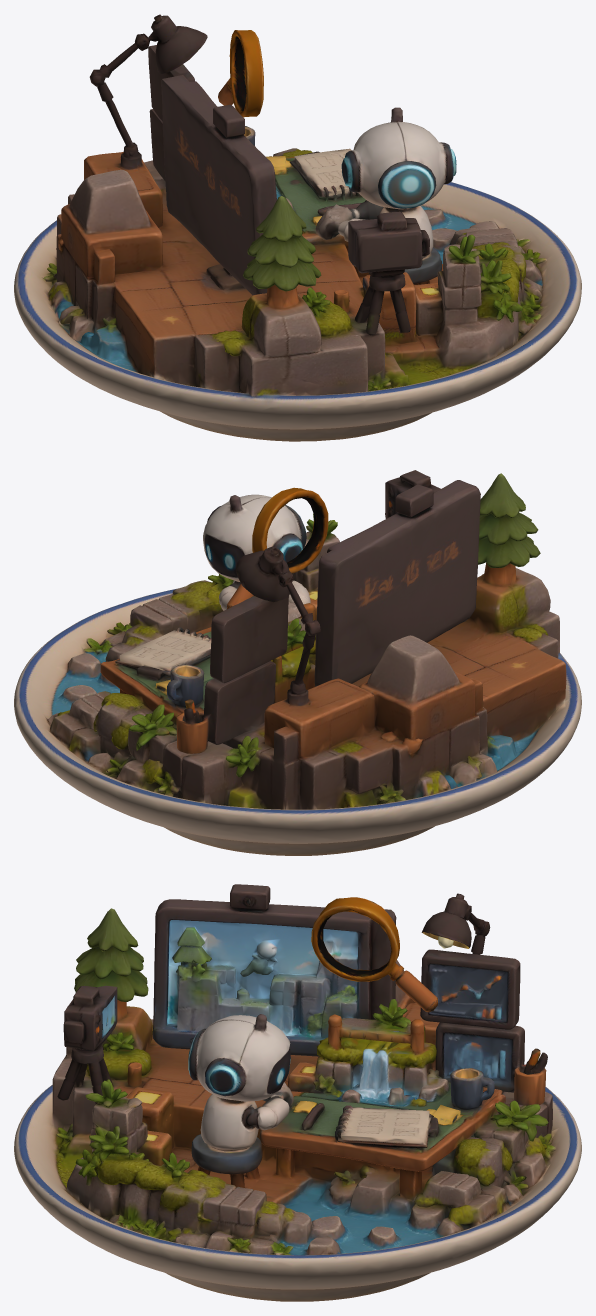
The model's file is smarttester.glb.
3 renders of one model, top to bottom at view 1: azimuth 30°, elevation 25°; view 2: azimuth 150°, elevation 25°; view 3: azimuth 270°, elevation 25°, orthographic.
Parts seen in each view (by area): view 1: tripo_node_1597b7ad-8030-4b8d-a75e-f9988241895c; view 2: tripo_node_1597b7ad-8030-4b8d-a75e-f9988241895c; view 3: tripo_node_1597b7ad-8030-4b8d-a75e-f9988241895c.
Part boxes in pixels (x1,y1,x2,y2): tripo_node_1597b7ad-8030-4b8d-a75e-f9988241895c: (14,14,581,441); tripo_node_1597b7ad-8030-4b8d-a75e-f9988241895c: (14,470,581,855); tripo_node_1597b7ad-8030-4b8d-a75e-f9988241895c: (14,884,581,1301).
Bounding box in the file's own units: 0.9965 × 0.6266 × 1.
1 material, 1 textured.
